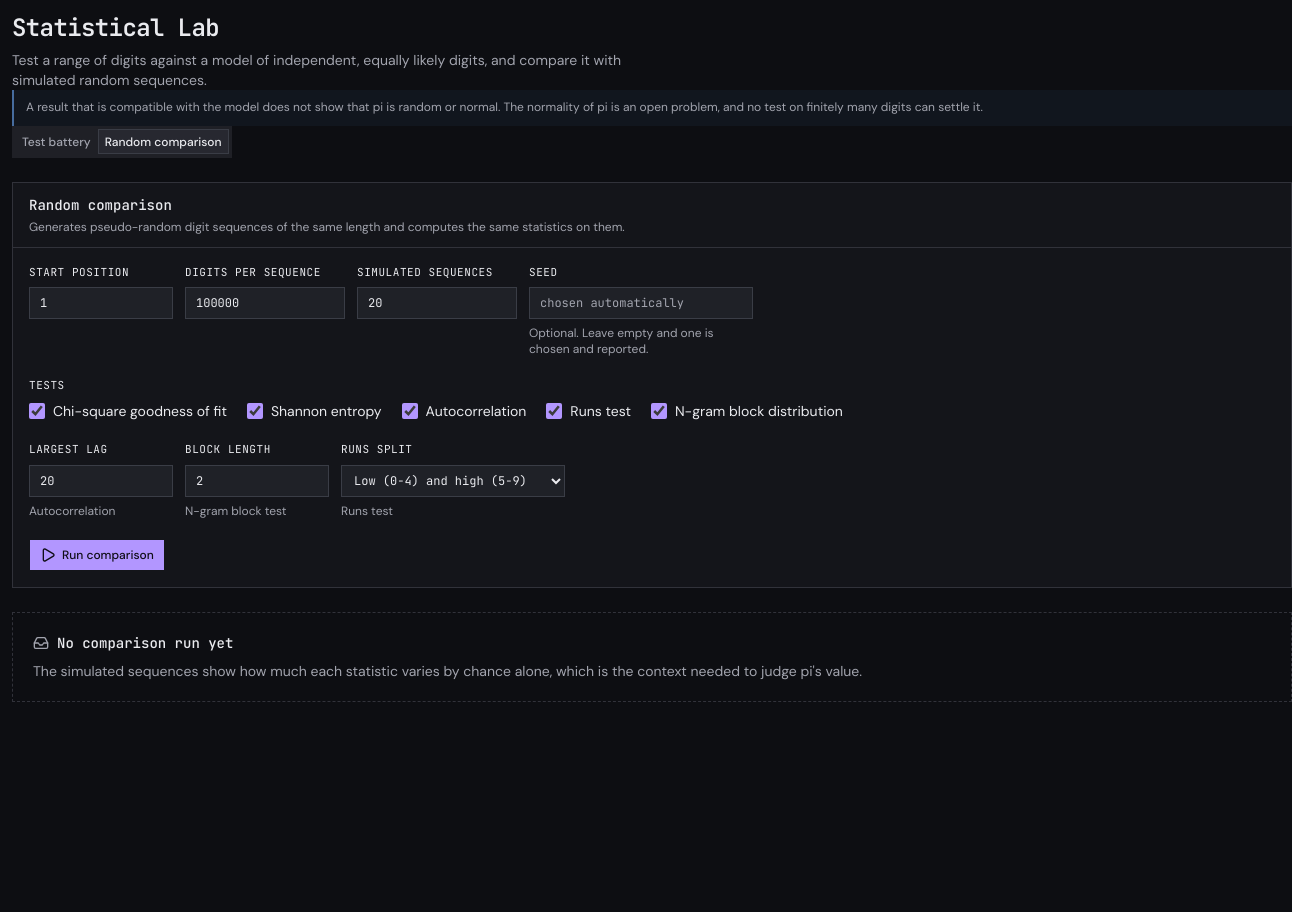
LabView random comparison › rejects a seed too large to repeat exactly
Type "9007199254740993" into the field labelled "Seed".
click(641, 303); type("9007199254740993")  # box x1=529 y1=287 x2=753 y2=319
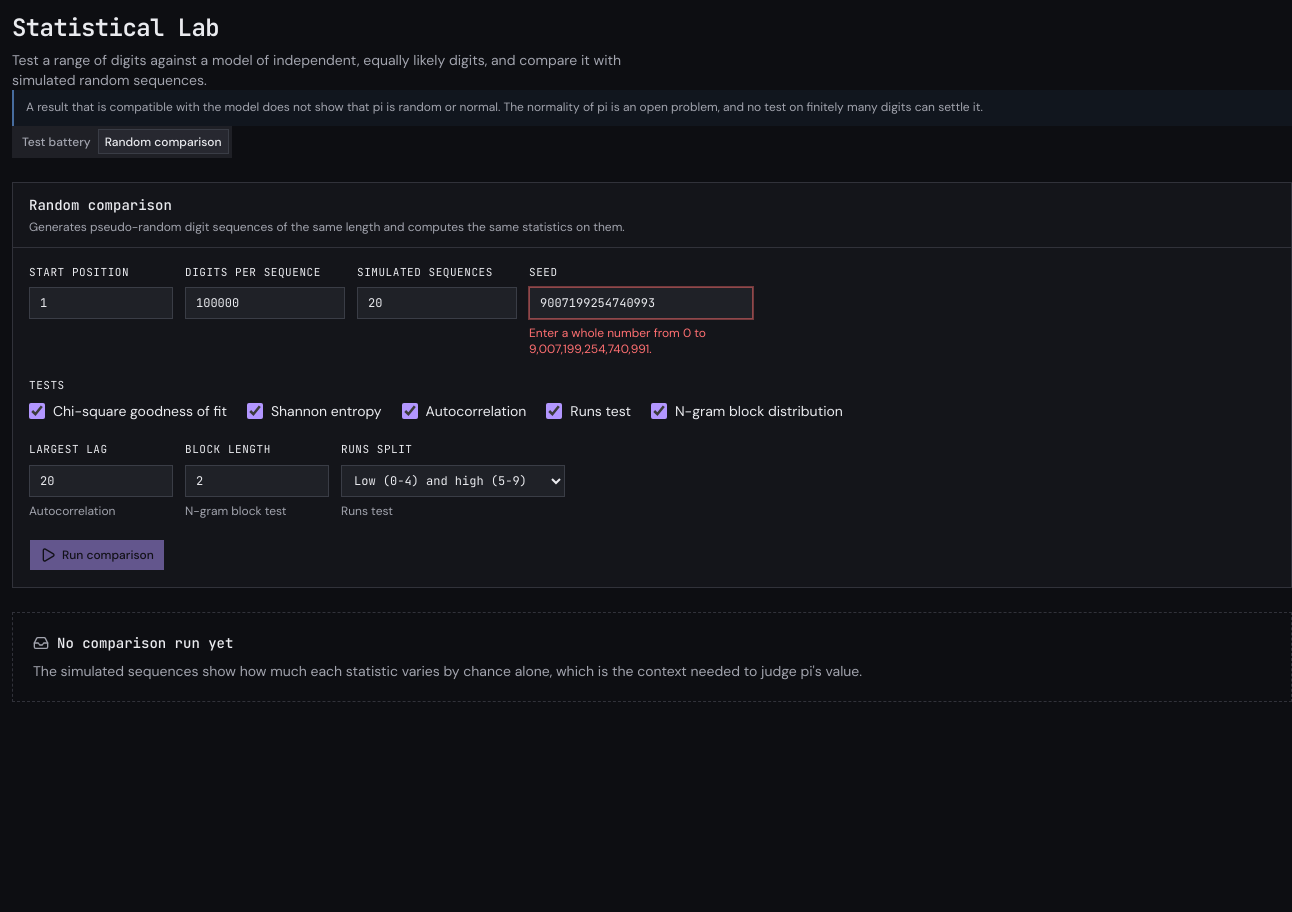
Check: the text "Enter a whole number from 0 to 9,007,199,254,740,991." is shown, box x1=529 y1=325 x2=706 y2=357
Check: the button "Run comparison" is disabled, box x1=29 y1=539 x2=165 y2=571
